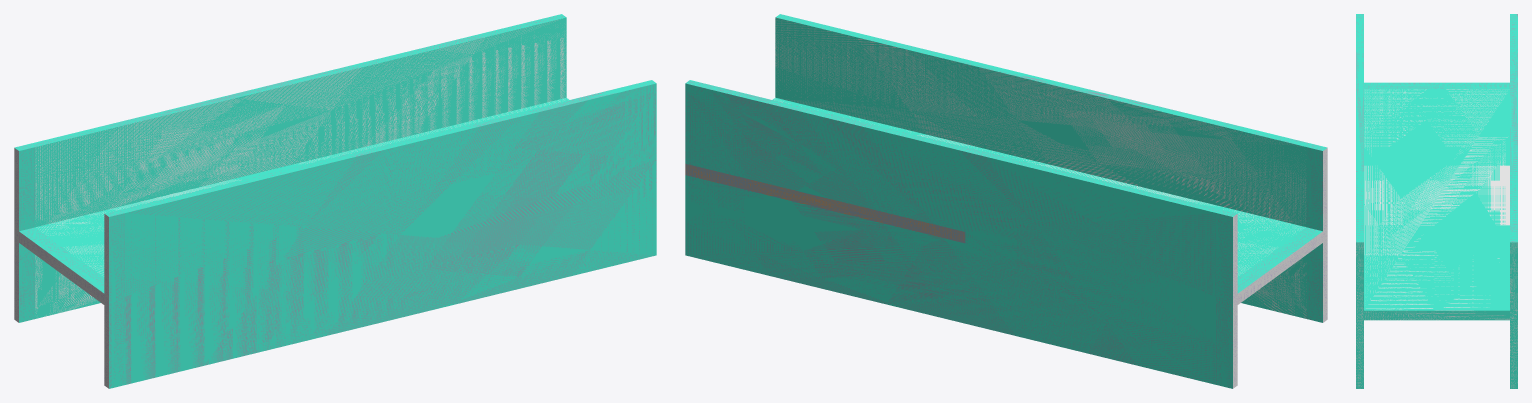
Rendered from Cantilever.obj.
3 views of the same model, side by side, from view 1: azimuth 30°, elevation 25°; view 2: azimuth 150°, elevation 25°; view 3: azimuth 270°, elevation 25° (orthographic). The views are drawn at different scales.
Parts seen in each view (by area): view 1: Mesh1 Model; view 2: Mesh1 Model; view 3: Mesh1 Model.
Part boxes in pixels (x1,y1,x2,y2): Mesh1 Model: (14,14,656,388); Mesh1 Model: (685,14,1327,388); Mesh1 Model: (1356,14,1517,388).
Bounding box in the file's own units: 1000 × 300 × 300.
